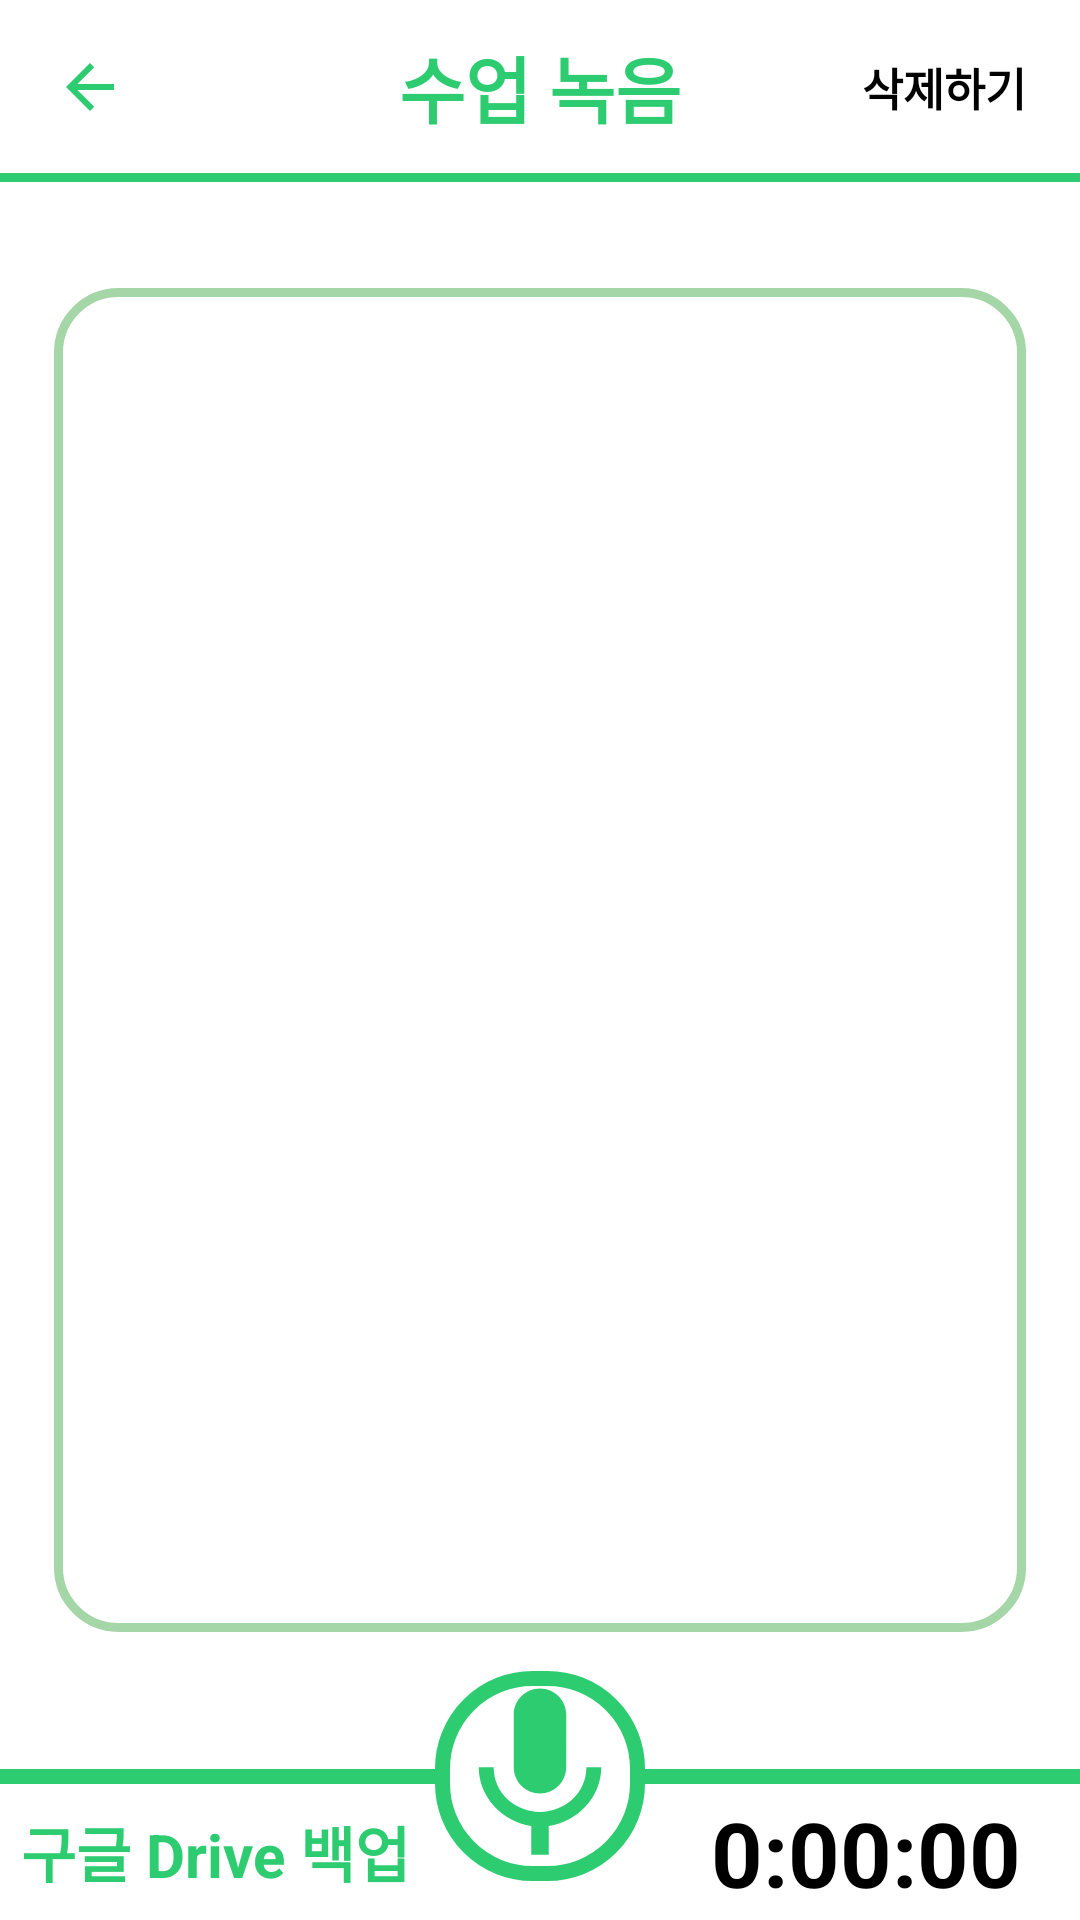

Icon bounding boxes for this 1080px x 1920px phone screenshot, format (x1, y1, x2, y2):
number back: (66, 63, 114, 111)
record mic: (435, 1671, 645, 1881)
